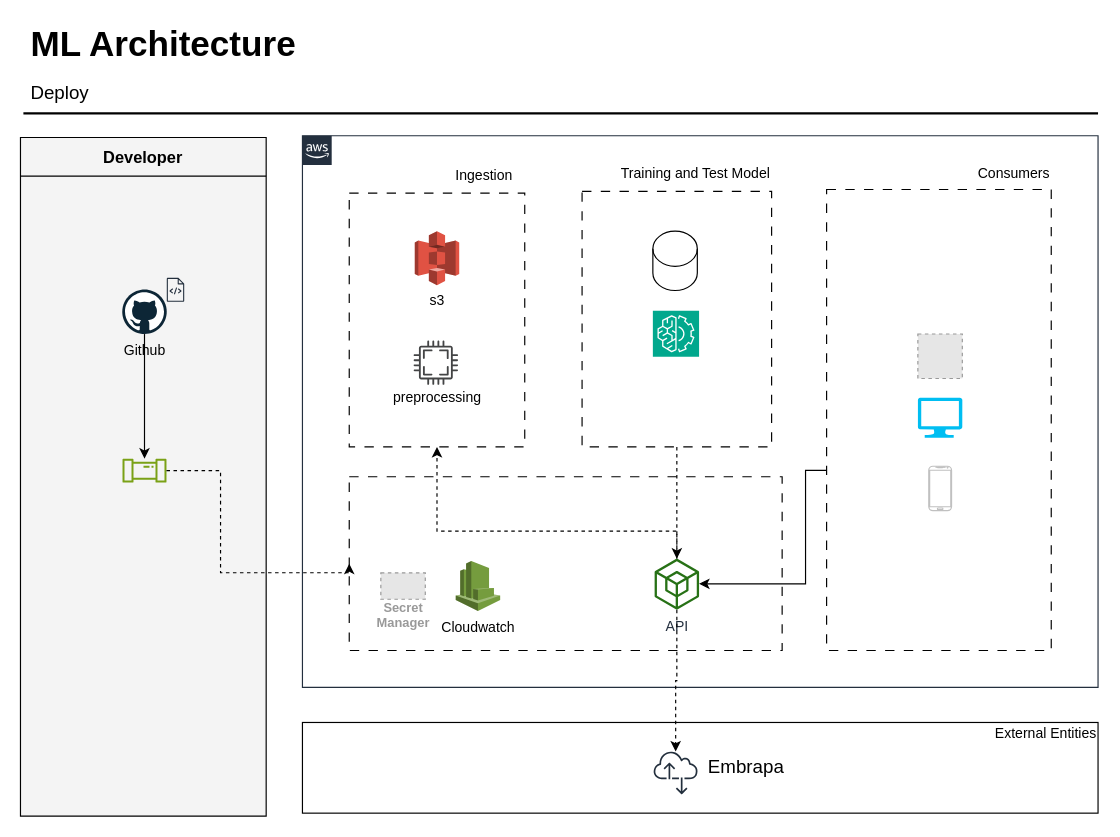
This 1120x837 diagram has some shape labels left out. Grey dashed boxes stand in for pictures. The shapes that lost their labels are listed below. From the top down, each one's box as (x1, y1, x2, y2) in pixels, then its label:
(652, 309, 699, 357): Machine Learning Model
(301, 135, 1098, 687): AWS Cloud
(122, 458, 166, 482): Pipeline (github actions)
